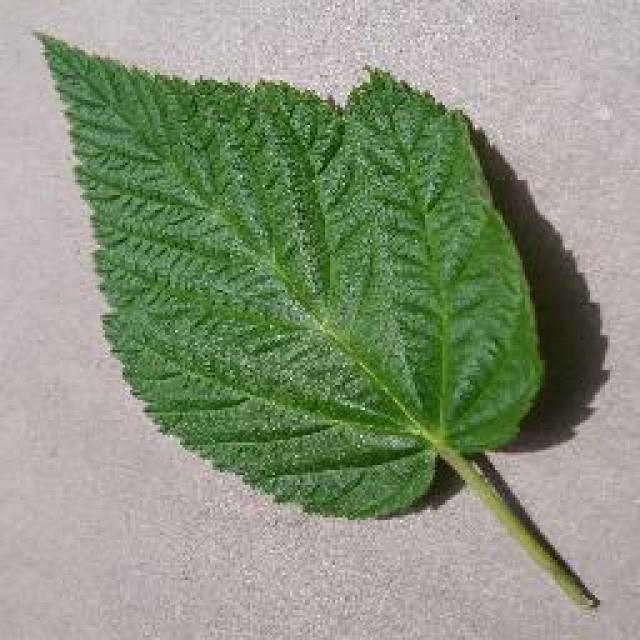Ras_healthy: (34, 25, 507, 487)
